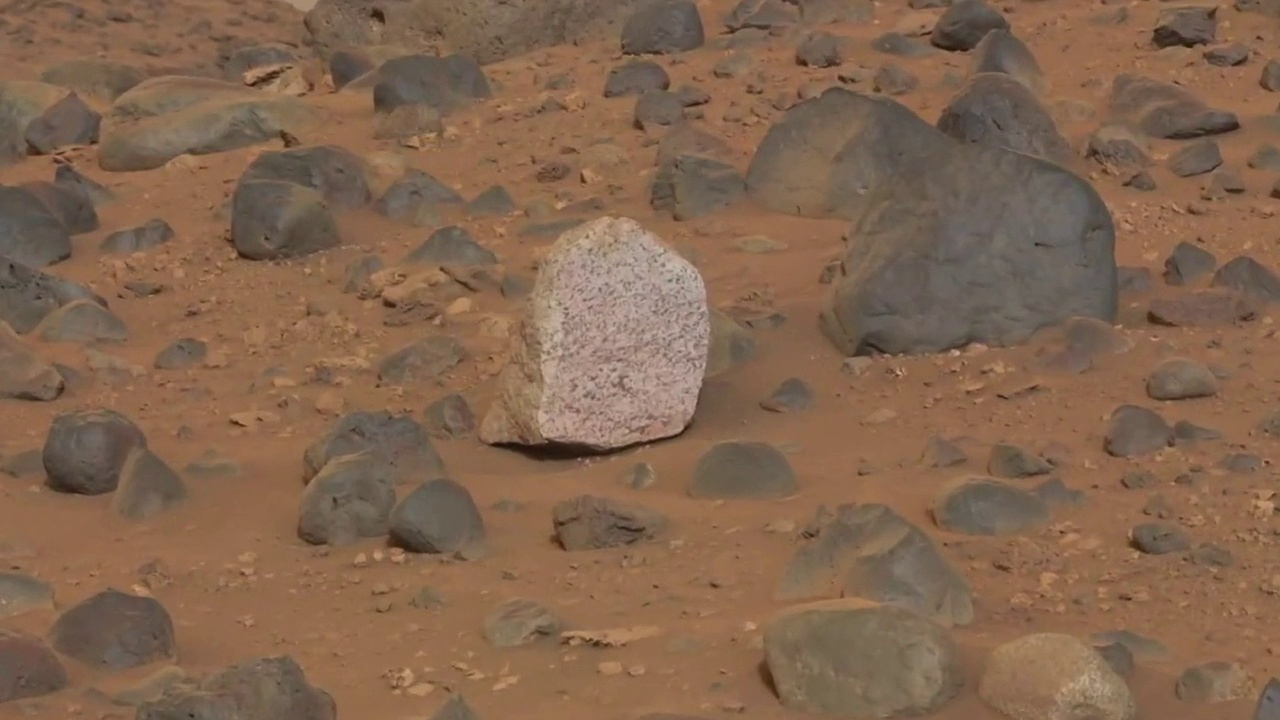rock: (478, 224, 744, 466), (1149, 7, 1217, 51), (1145, 375, 1217, 402), (1127, 525, 1189, 555), (336, 0, 391, 25), (795, 41, 842, 68), (244, 69, 284, 88), (1202, 51, 1249, 67)
